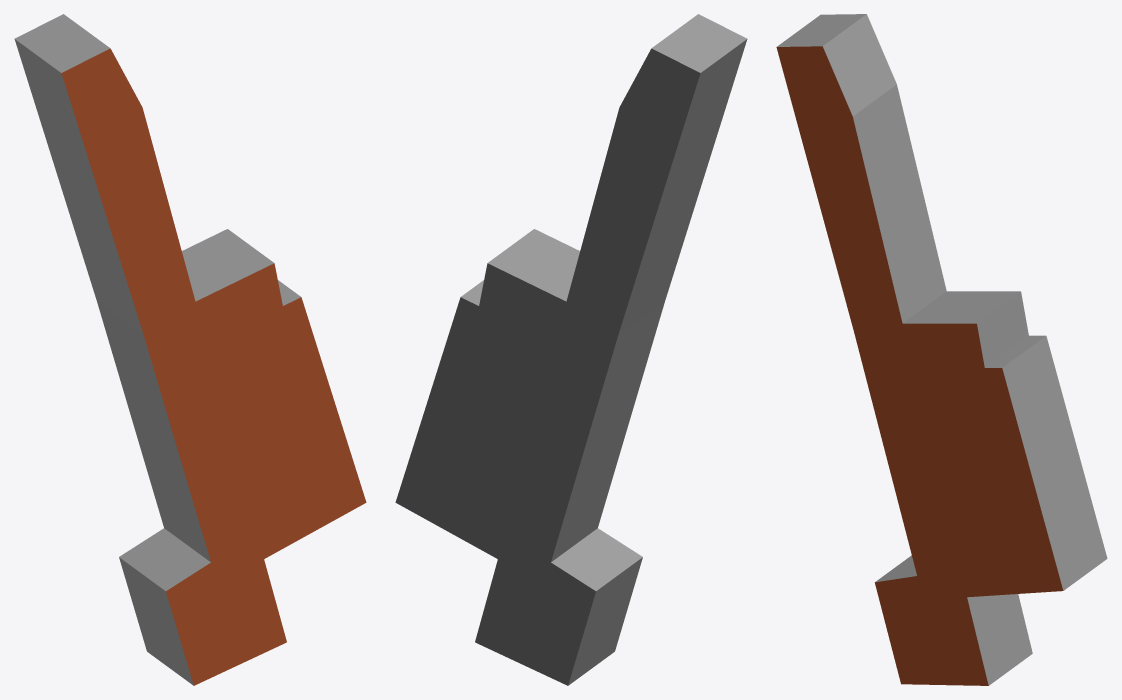
The model's file is construction_2270_assumed_A_Casa_h6m.obj.
3 renders of one model, left to right at view 1: azimuth 30°, elevation 25°; view 2: azimuth 150°, elevation 25°; view 3: azimuth 330°, elevation 25°, orthographic. The views are drawn at different scales.
Parts seen in each view (by area): view 1: construction_2270_assumed_A_Casa; view 2: construction_2270_assumed_A_Casa; view 3: construction_2270_assumed_A_Casa.
Boxes of the visible parts, <box> form: construction_2270_assumed_A_Casa: <box>14,14,366,685</box>; construction_2270_assumed_A_Casa: <box>395,14,747,685</box>; construction_2270_assumed_A_Casa: <box>776,14,1107,685</box>.
Bounding box in the file's own units: 22.52 × 46.4 × 6.
